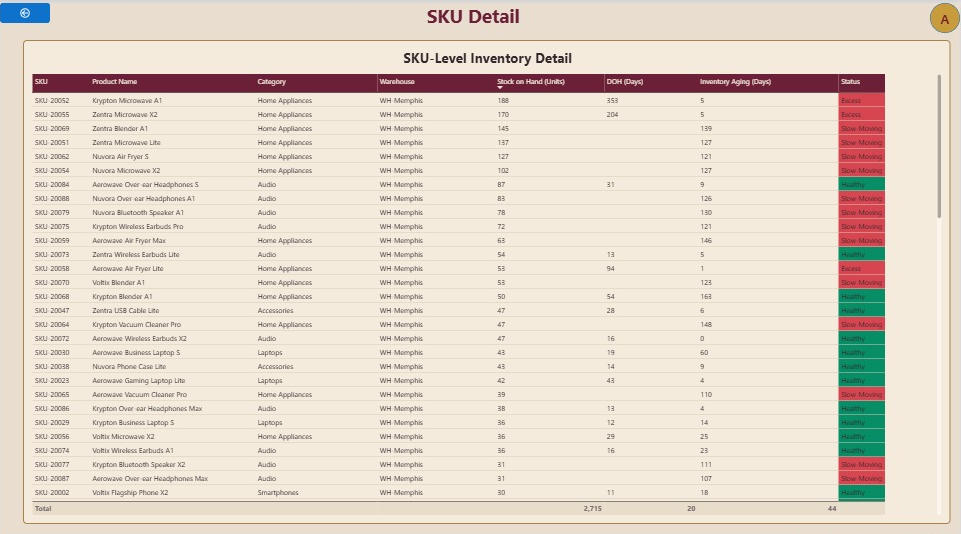

This screenshot's page, from the dashboard's own definition file:
{"tool":"powerbi","page":{"name":"SKU Detail","canvas":[1920,1080],"ordinal":4},"visuals":[{"type":"textbox","box":[45.4,0,1801.4,73.4],"z":0},{"type":"tableEx","title":"SKU-Level Inventory Detail","fields":{"Values":["Dim_Product.SKU","Dim_Product.ProductName","Dim_Product.Category","Dim_Warehouse.WarehouseName","_Measures.Stock on Hand","_Measures.Days of Inventory on Hand","_Measures.Avg Aging (Days)","SKU_Status_Snapshot.Status"]},"box":[45.4,73.4,1855.4,967.7],"z":1000},{"type":"actionButton","box":[0,0,100,40],"z":2000},{"type":"shape","box":[1859.8,0,60,60],"z":8000},{"type":"textbox","title":"Designed & developed by Mirza Afzal Baig | Afzalytics","box":[1413.4,1062.3,506.6,17.7],"z":9000}]}

Visuals, with their boxes on the page's 1920x1080 design canvas (x1, y1, x2, y2). These are canvas units, not pixel positions in the 961x534 screenshot, which may show the page scaled, cropped or inside an application window:
textbox: <box>45,0,1847,73</box>
"SKU-Level Inventory Detail" tableEx: <box>45,73,1901,1041</box>
actionButton: <box>0,0,100,40</box>
shape: <box>1860,0,1920,60</box>
"Designed & developed by Mirza Afzal Baig | Afzalytics" textbox: <box>1413,1062,1920,1080</box>
